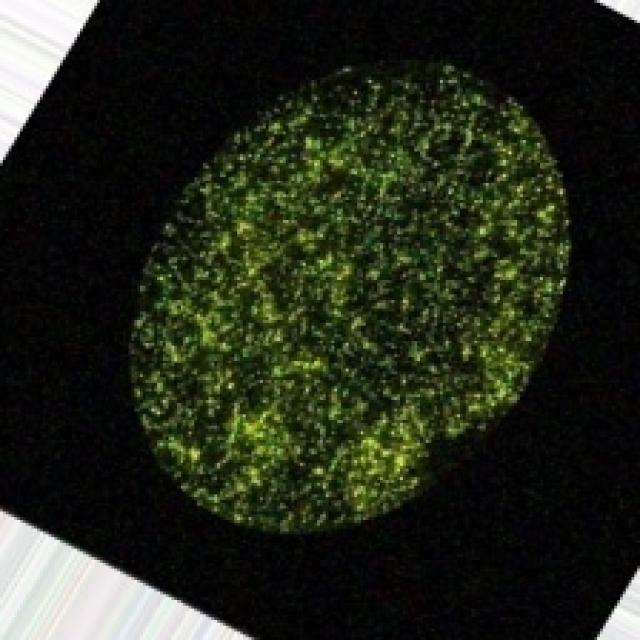Spherical_bacteria: (123, 52, 571, 534)
